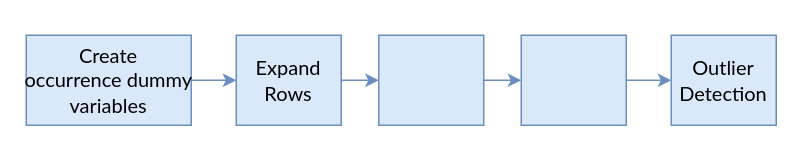
The diagram is 803 pixels wide and 161 high, and some of its shapes have lost their labels. The shapes that lost their labels are listed below. From the top down, each one's centre as x and y in pixels, then its label:
At point 430,79: "Feature Engineering".
At point 573,79: "Linear Regression".
